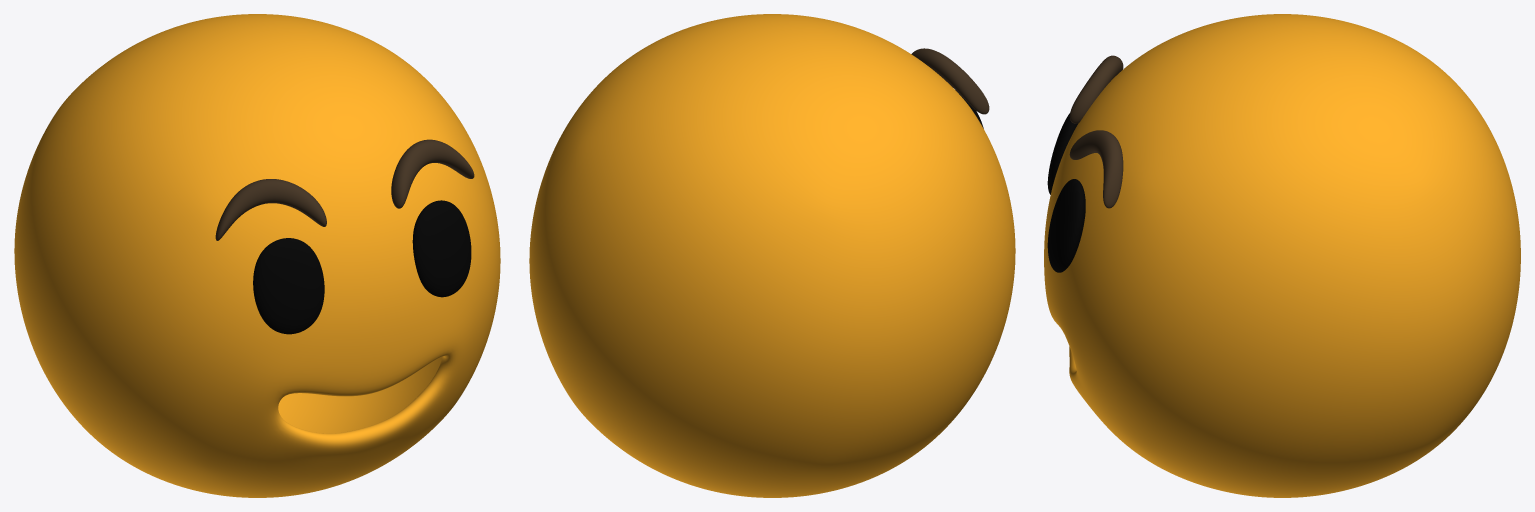
Rendered from Smile Face.glb.
3 views of the same model, side by side, from view 1: azimuth 30°, elevation 25°; view 2: azimuth 150°, elevation 25°; view 3: azimuth 270°, elevation 25° (orthographic).
Parts seen in each view (by area): view 1: Cube, Cube.001, Cube.002_Cube.004; view 2: Cube, Cube.002_Cube.004; view 3: Cube, Cube.002_Cube.004, Cube.001.
Part boxes in pixels (bbox=[...]): Cube: bbox=[14, 14, 500, 497]; Cube.001: bbox=[253, 200, 471, 334]; Cube.002_Cube.004: bbox=[215, 139, 474, 240]; Cube: bbox=[529, 14, 1015, 497]; Cube.002_Cube.004: bbox=[911, 48, 989, 114]; Cube: bbox=[1044, 14, 1520, 497]; Cube.002_Cube.004: bbox=[1069, 55, 1123, 208]; Cube.001: bbox=[1047, 113, 1085, 272].
Size of the model in its own units: 1.66 by 1.66 by 1.66.
